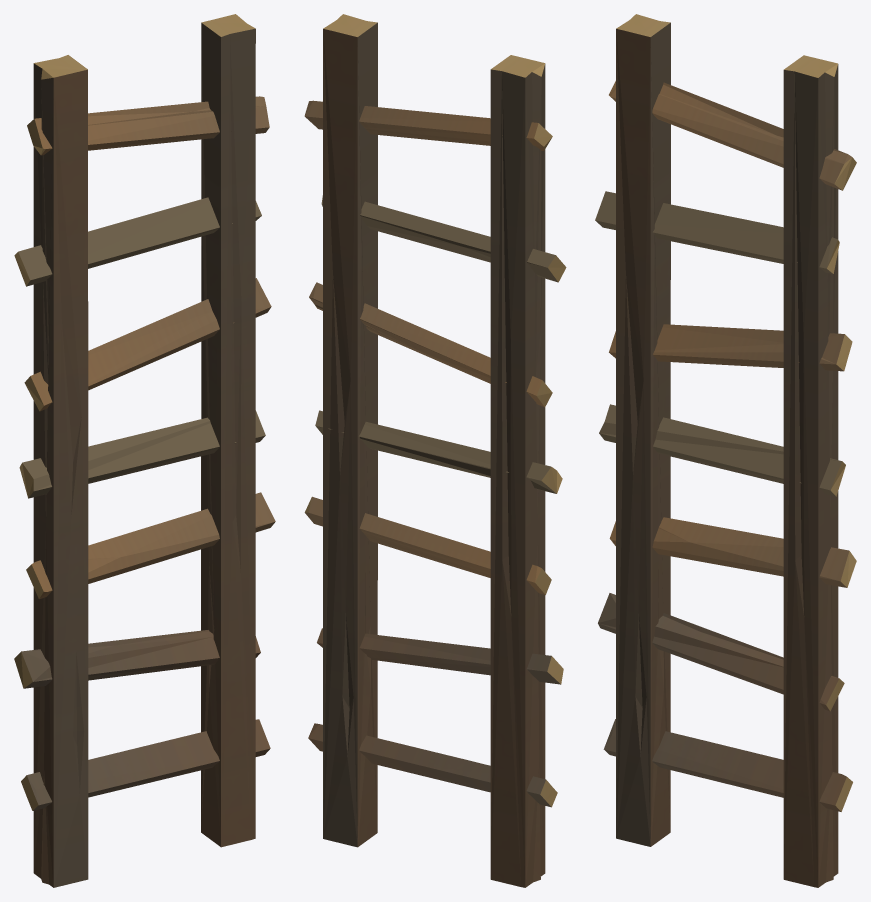
File: Ladder.fbx
3 views of the same model, side by side, from view 1: azimuth 30°, elevation 25°; view 2: azimuth 150°, elevation 25°; view 3: azimuth 330°, elevation 25° (orthographic).
Parts seen in each view (by area): view 1: polySurface9732; view 2: polySurface9732; view 3: polySurface9732.
Part boxes in pixels (x1,y1,x2,y2): polySurface9732: [14, 14, 275, 887]; polySurface9732: [304, 14, 566, 887]; polySurface9732: [595, 14, 856, 887].
Bounding box in the file's own units: 192 × 600 × 29.4.
